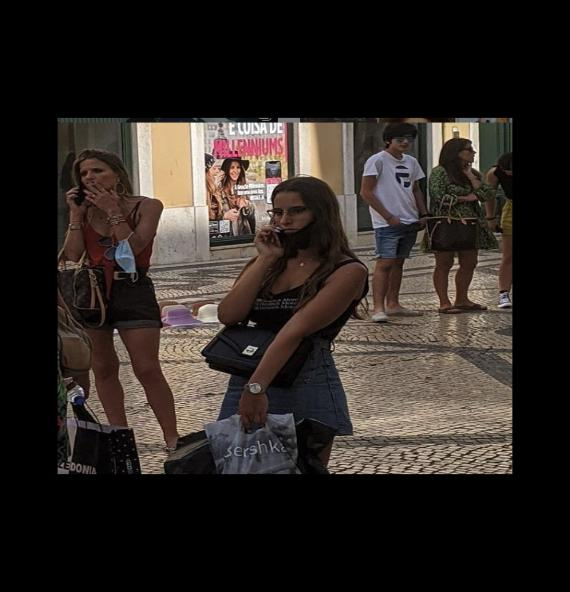mask_weared_incorrect: (270, 201, 317, 246)
without_mask: (80, 162, 113, 191), (386, 136, 417, 154), (463, 146, 476, 164), (208, 164, 220, 180), (230, 164, 241, 180)
